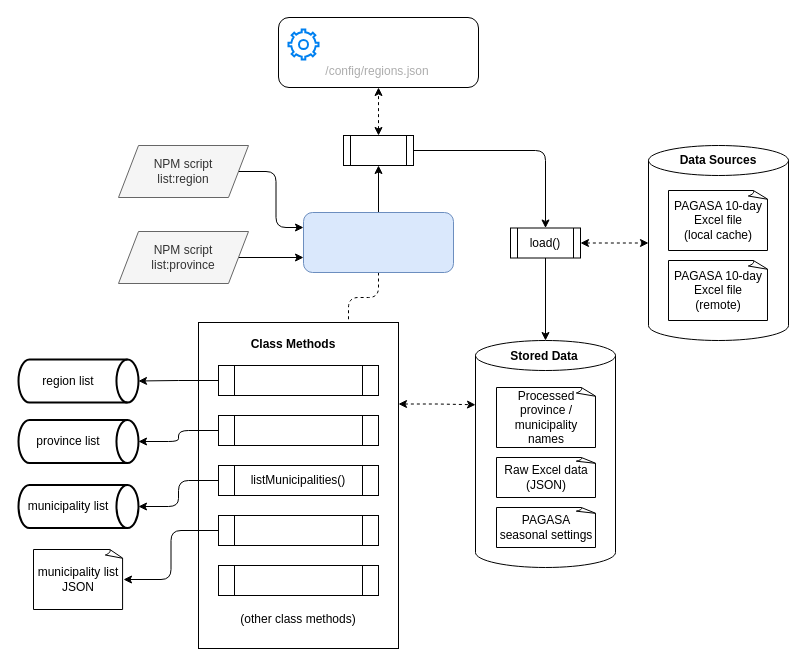
Image size: 806x666. Some labels were removed from this diagram. The shapes that lost their labels are listed below. From the top down, each one's centre as x and y in pixels, then its label:
[303,44]: PAGASA seasonal settings (region - province names)
[378,150]: init()
[378,242]: ExcelFile / ExcelFactory (class)
[298,380]: listRegions()
[298,430]: listAllProvinces()
[298,530]: writeMuniicipalities()
[298,580]: get()*
